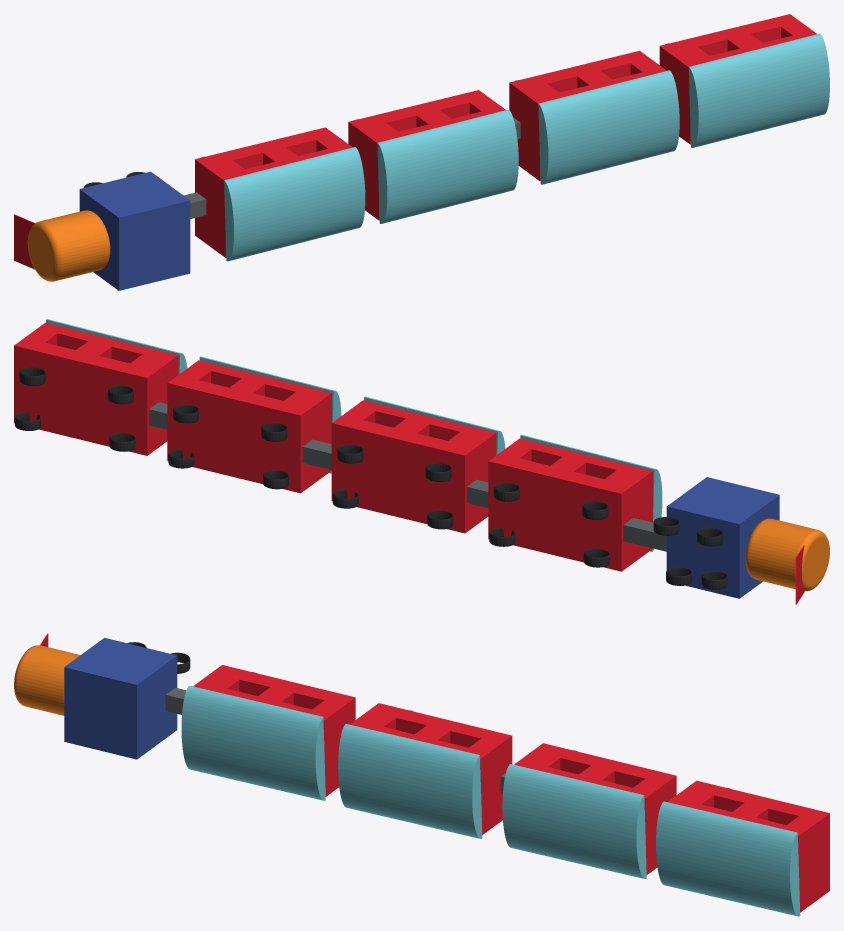
File: tinker.obj
3 renders of one model, top to bottom at view 1: azimuth 30°, elevation 25°; view 2: azimuth 150°, elevation 25°; view 3: azimuth 330°, elevation 25°, orthographic. The views are drawn at different scales.
Parts seen in each view (by area): view 1: group_0_7720667, group_0_15277357, group_0_3888547, group_0_16089887, group_0_6383466; view 2: group_0_15277357, group_0_2829873, group_0_3888547, group_0_16089887, group_0_7720667, group_0_6383466; view 3: group_0_7720667, group_0_15277357, group_0_3888547, group_0_16089887, group_0_6383466.
Part boxes in pixels (<box>): group_0_7720667: <box>224,33,829,261</box>; group_0_15277357: <box>14,14,816,269</box>; group_0_3888547: <box>79,171,190,290</box>; group_0_16089887: <box>27,210,110,281</box>; group_0_6383466: <box>184,117,520,218</box>; group_0_15277357: <box>14,322,804,604</box>; group_0_2829873: <box>14,367,727,589</box>; group_0_3888547: <box>666,477,779,598</box>; group_0_16089887: <box>745,518,829,591</box>; group_0_7720667: <box>46,319,662,551</box>; group_0_6383466: <box>149,402,666,551</box>; group_0_7720667: <box>181,685,800,916</box>; group_0_15277357: <box>40,633,829,912</box>; group_0_3888547: <box>64,637,177,759</box>; group_0_16089887: <box>14,645,80,715</box>; group_0_6383466: <box>165,687,505,793</box>.
Size of the model in its own units: 509 by 52 by 59.
